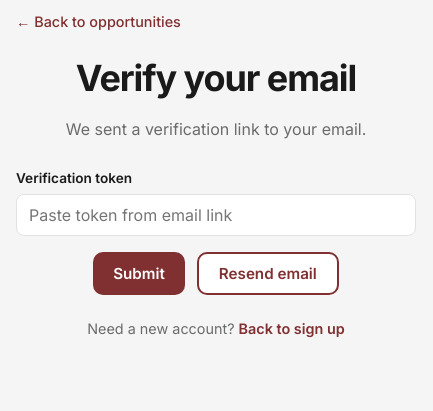
Test: VerifyEmailPage › requires a token before submitting manual verification
The width and height of the screenshot is (433, 411).
Click the button "Submit": (139, 274) [93, 252, 185, 295]
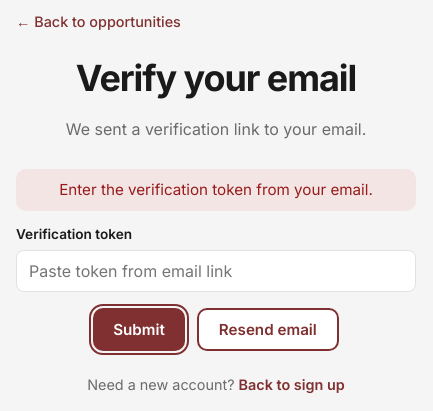
Result: the message reads "Enter the verification token from your email." at [59, 180, 373, 199]
